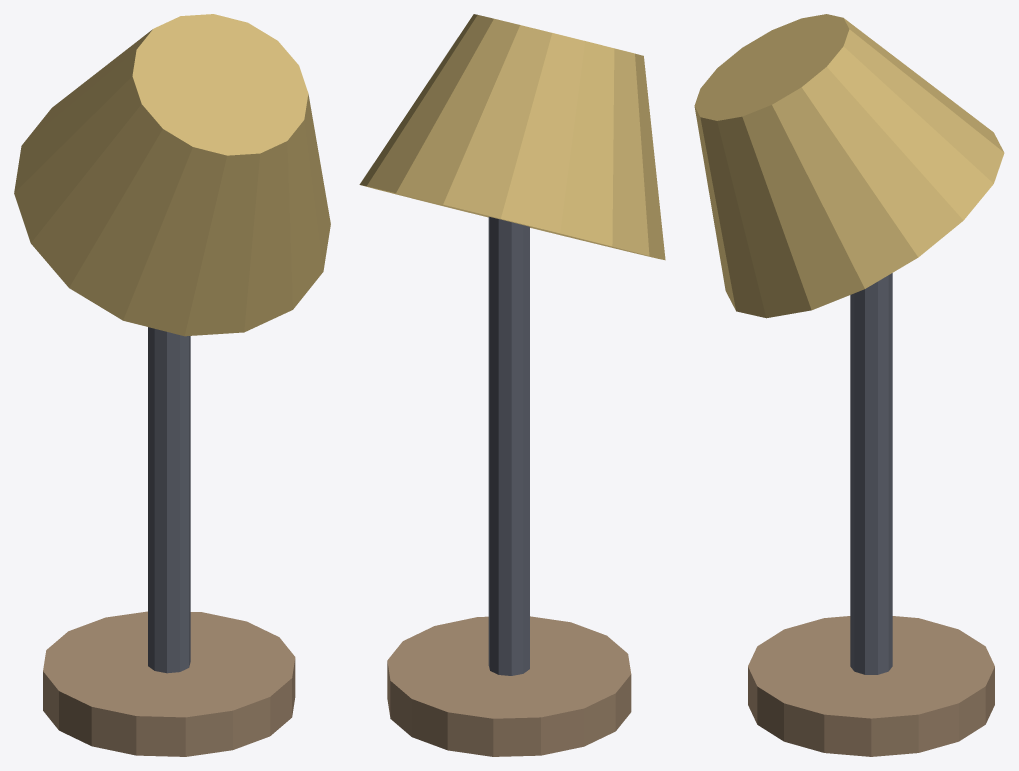
The model's file is office_luminaria_mesa_coz.glb.
3 views of the same model, side by side, from view 1: azimuth 30°, elevation 25°; view 2: azimuth 150°, elevation 25°; view 3: azimuth 270°, elevation 25° (orthographic). The views are drawn at different scales.
Visible parts, largest first — view 1: OFFICE_LuminariaMesaCoz_Cupula, OFFICE_LuminariaMesaCoz_Base, OFFICE_LuminariaMesaCoz_Haste; view 2: OFFICE_LuminariaMesaCoz_Cupula, OFFICE_LuminariaMesaCoz_Base, OFFICE_LuminariaMesaCoz_Haste; view 3: OFFICE_LuminariaMesaCoz_Cupula, OFFICE_LuminariaMesaCoz_Base, OFFICE_LuminariaMesaCoz_Haste.
Boxes of the visible parts, x1,y1,x2,y2 form: OFFICE_LuminariaMesaCoz_Cupula: [14, 14, 330, 336]; OFFICE_LuminariaMesaCoz_Base: [43, 611, 295, 756]; OFFICE_LuminariaMesaCoz_Haste: [148, 327, 190, 673]; OFFICE_LuminariaMesaCoz_Cupula: [359, 14, 665, 260]; OFFICE_LuminariaMesaCoz_Base: [387, 616, 631, 756]; OFFICE_LuminariaMesaCoz_Haste: [488, 217, 529, 675]; OFFICE_LuminariaMesaCoz_Cupula: [694, 14, 1004, 318]; OFFICE_LuminariaMesaCoz_Base: [748, 616, 994, 756]; OFFICE_LuminariaMesaCoz_Haste: [850, 273, 892, 674].
Size of the model in its own units: 0.18 by 0.4222 by 0.1756.
